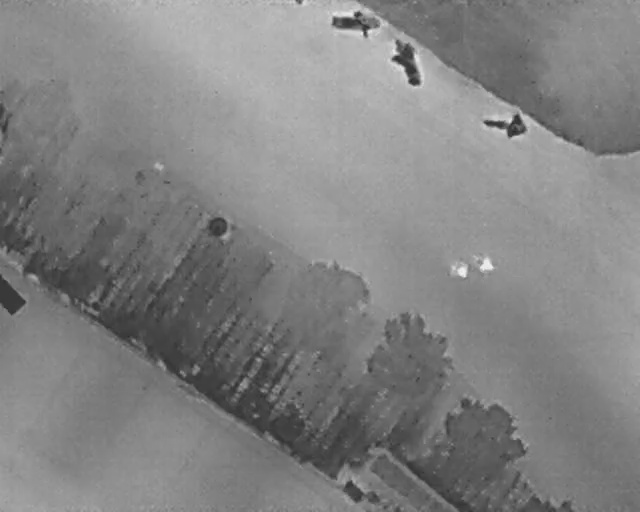Bicycle: (380, 31, 429, 92), (480, 105, 533, 141), (329, 9, 383, 37)
Person: (479, 253, 495, 274), (455, 260, 470, 279)
